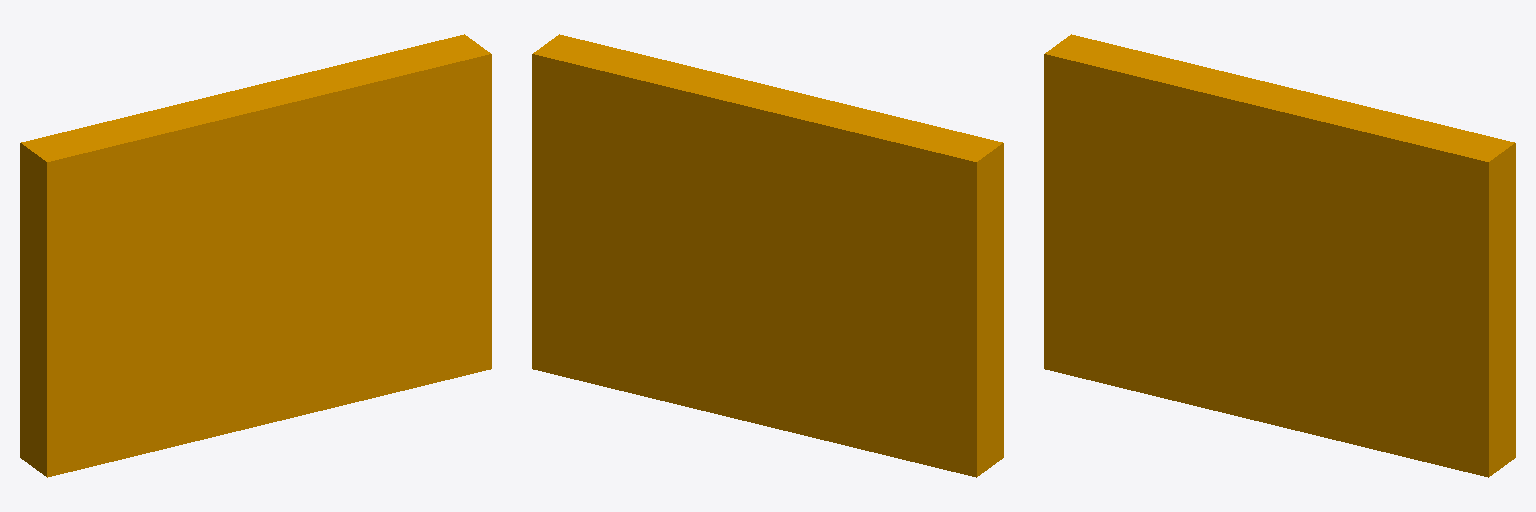
robot.urdf — book:
<?xml version="1.0"?>
<robot name="book">
  <link name="insert_book">
    <collision>
      <origin xyz="0 0 0" />
          <geometry>
              <mesh filename="objects/meshes/insert_book_small_dense.stl"/>
          </geometry>
      <inertial>
          <mass value="0.01"/>
          <inertia ixx="0.05" ixy="0.0" ixz="0.0" iyy="0.05" iyz="0.0" izz="0.05"/>
      </inertial>
      <sdf resolution="256"/>
    </collision>
    <visual>
      <origin xyz="0 0 0" />
      <geometry>
          <mesh filename="objects/meshes/insert_book_small_dense.stl"/>
      </geometry>
    </visual>
  </link>
</robot>

--- What the picture shows (computed from the rendered views, not written in the file) ---
Views: 3 orthographic renders of the robot side by side, from view 1: azimuth 30°, elevation 25°; view 2: azimuth 150°, elevation 25°; view 3: azimuth 330°, elevation 25°.
Model book with 1 links and 0 joints (none), rooted at insert_book, posed every joint at zero.
Links seen in each view (by area): view 1: insert_book; view 2: insert_book; view 3: insert_book.
Link boxes in pixels (<box>): insert_book: <box>20,34,491,477</box>; insert_book: <box>532,34,1003,477</box>; insert_book: <box>1044,34,1515,477</box>.
Bounding box of the posed robot: 0.23 × 0.024 × 0.156 m (x, y, z).
Meshes: 1 distinct files referenced, 1 mesh visuals loaded (1 binary STL).
